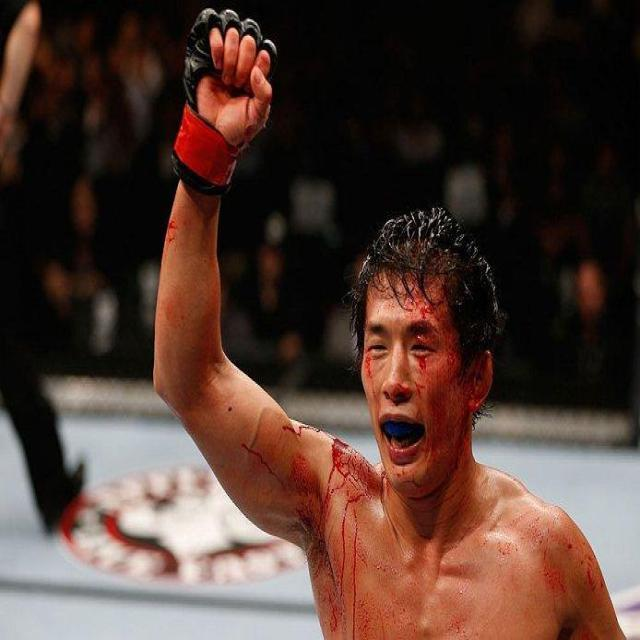flood: (356, 252, 468, 516), (280, 412, 393, 634)
